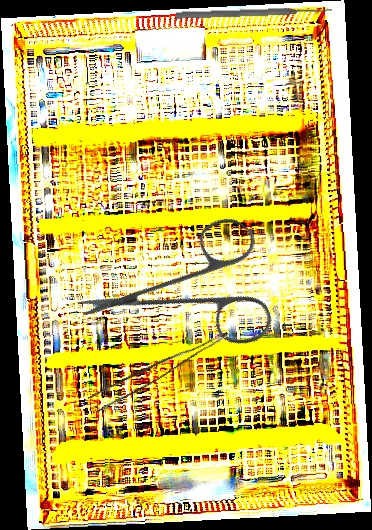Iris Scissors: (73, 172, 310, 407)
Pusher: (175, 5, 333, 21)
Tissue Forceps: (86, 316, 230, 418)
